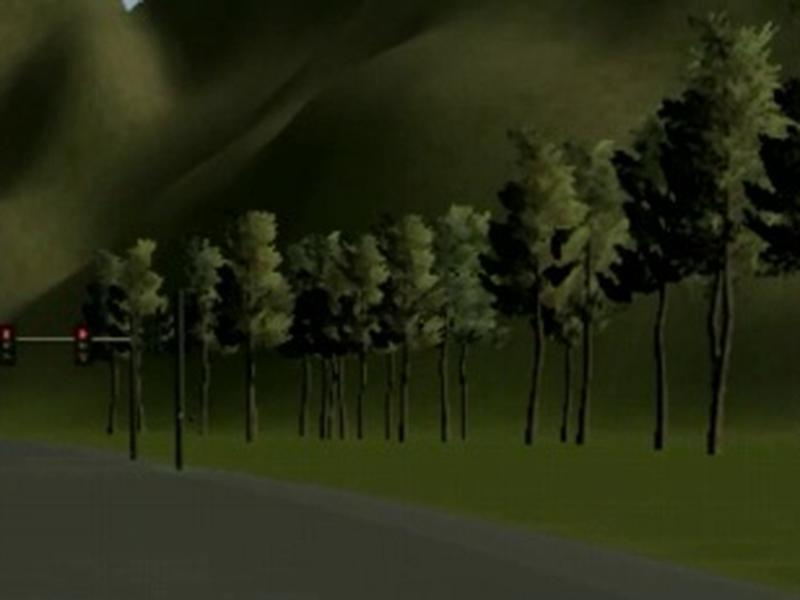Red: (72, 323, 92, 366), (1, 323, 18, 366)
